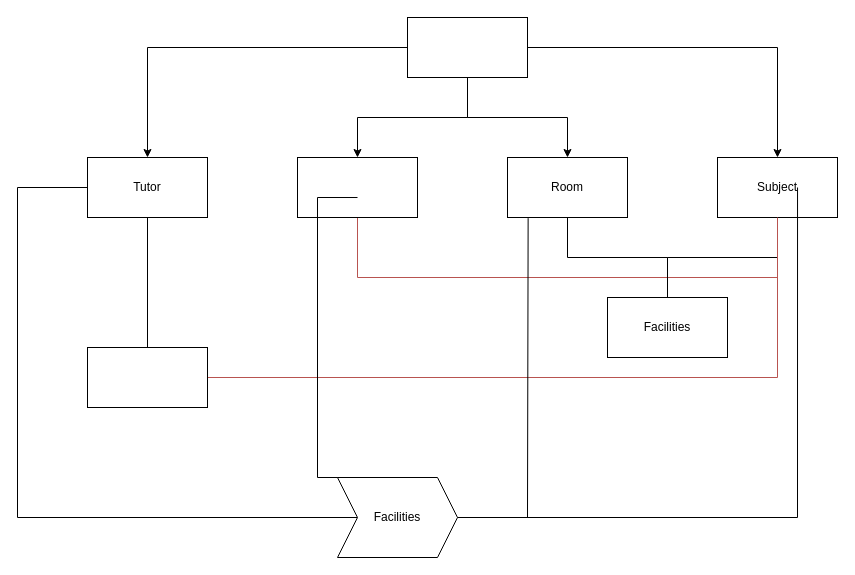
Some shapes in this 855 by 575 pixel diagram are drawn without their labels. The shapes that lost their labels are listed below. From the top down, each one's box as (x1, y1, x2, y2) in pixels, then its label:
(406, 16, 528, 78): NLA TIMEPLAN
(296, 156, 418, 218): Degree
(86, 346, 208, 408): Accessibility
